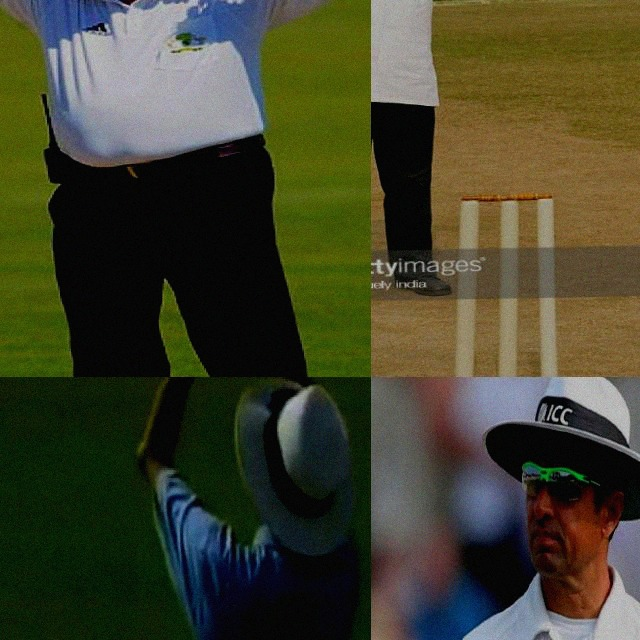No_Action: (386, 377, 640, 640)
Six: (0, 0, 371, 377), (115, 377, 371, 640), (371, 0, 538, 303)
